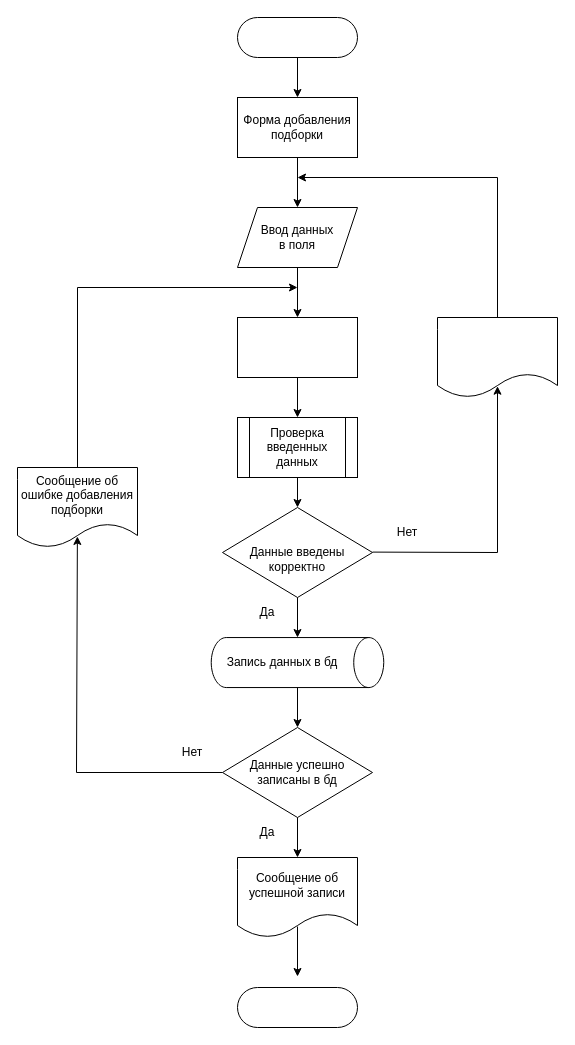
Image size: 575x1045. Some labels were removed from this diagram. Each missing label, with the centre of its shape:
"Конец" belongs at point (297, 1007).
"Нажатие на кнопку добавления" belongs at point (297, 347).
"Начало" belongs at point (297, 37).
"Сообщение о некорректных данных" belongs at point (497, 357).
